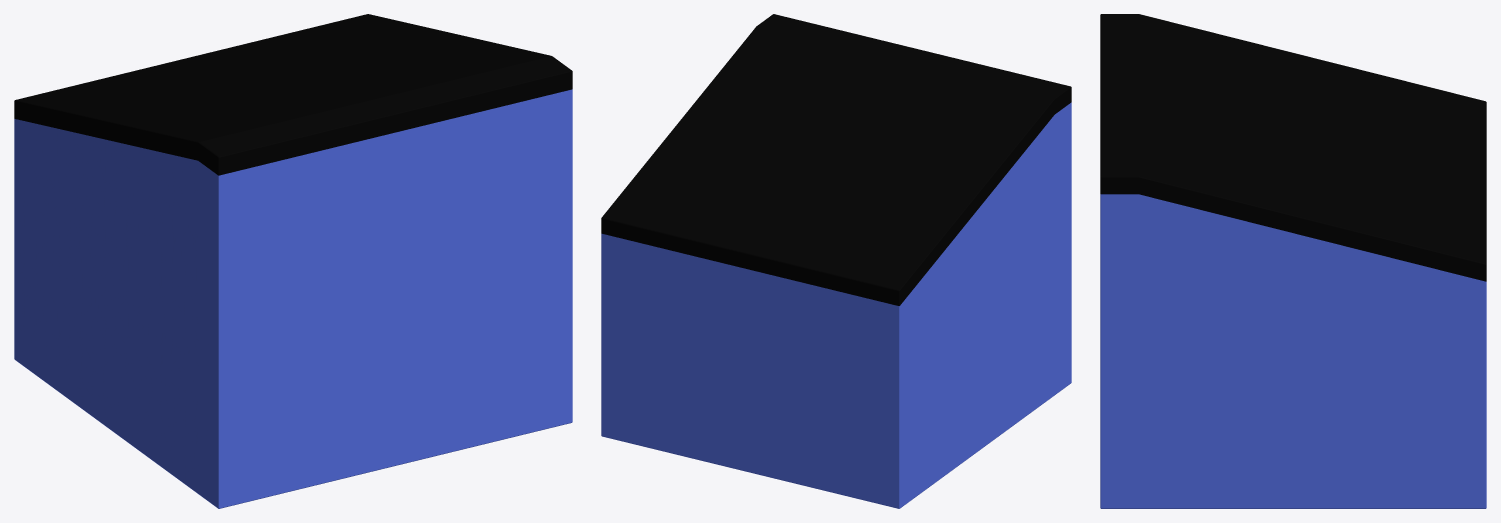
File: CeilingTopSimple.fbx
3 renders of one model, left to right at view 1: azimuth 30°, elevation 25°; view 2: azimuth 150°, elevation 25°; view 3: azimuth 270°, elevation 25°, orthographic. The views are drawn at different scales.
Visible parts, largest first — view 1: CeilingTop; view 2: CeilingTop; view 3: CeilingTop.
Boxes of the visible parts, left/top/right/bottom form: CeilingTop: left=14, top=14, right=572, bottom=508; CeilingTop: left=601, top=14, right=1071, bottom=508; CeilingTop: left=1100, top=14, right=1486, bottom=508.
Bounding box in the file's own units: 2 × 2 × 1.9.
